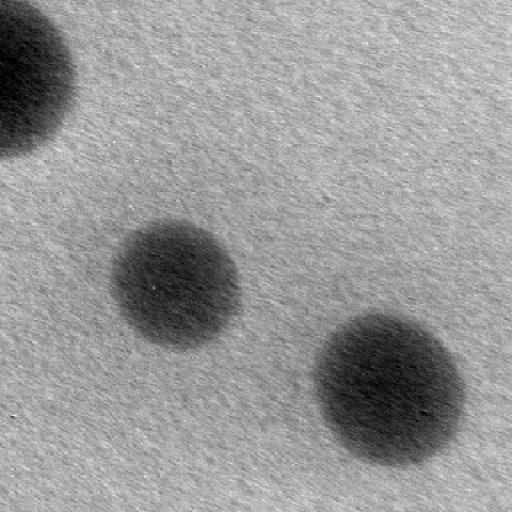Nanoparticles: (311, 308, 470, 473), (104, 220, 247, 357), (0, 0, 78, 159)
